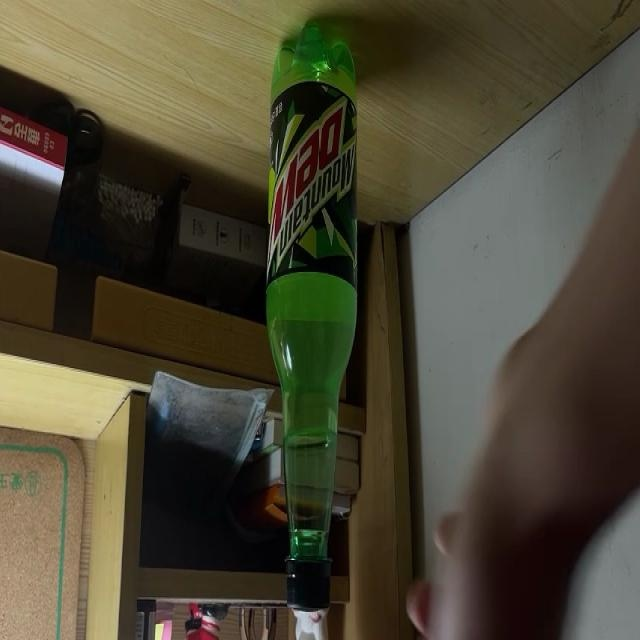Mountain-Dew: (265, 21, 358, 612)
